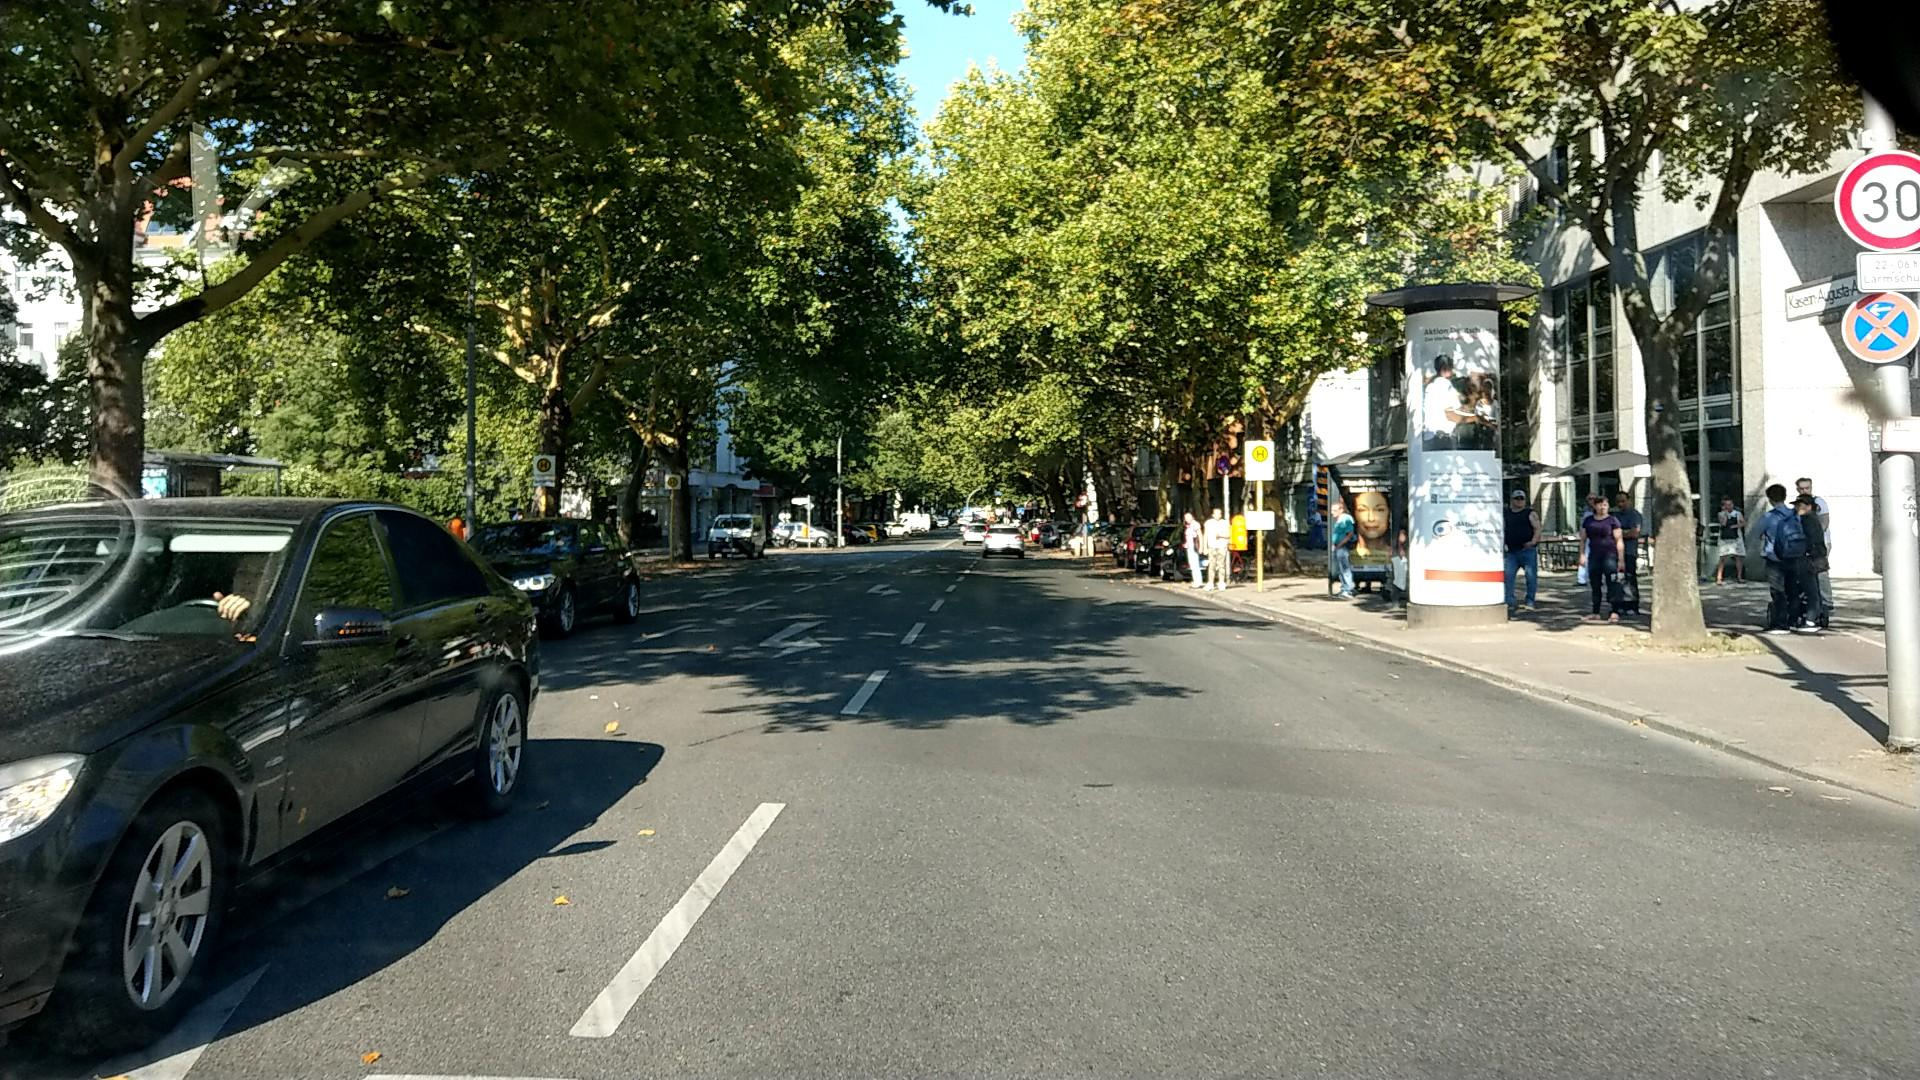Human face: (231, 552, 269, 601), (1353, 493, 1392, 539), (1793, 496, 1813, 515), (1796, 479, 1813, 496), (1592, 498, 1609, 516), (1511, 492, 1527, 509), (1615, 494, 1629, 511), (1330, 503, 1344, 519), (1722, 499, 1735, 513), (1210, 508, 1222, 520), (1398, 529, 1406, 544), (1183, 513, 1193, 525)
